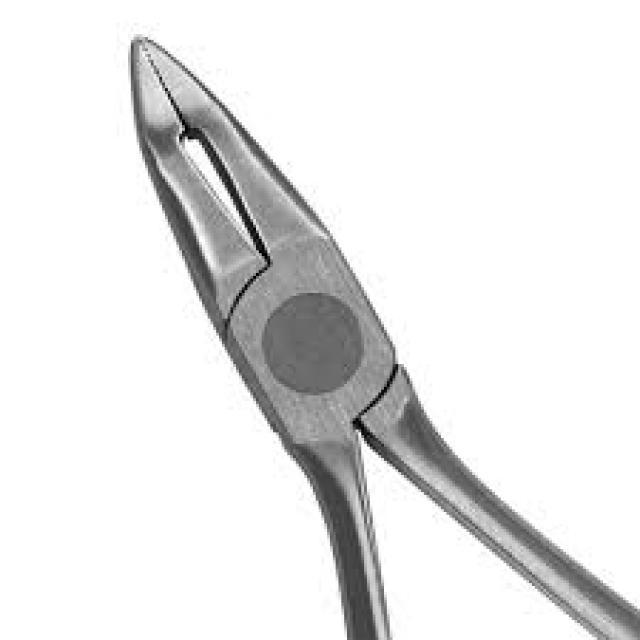pliers: (96, 20, 604, 640)
